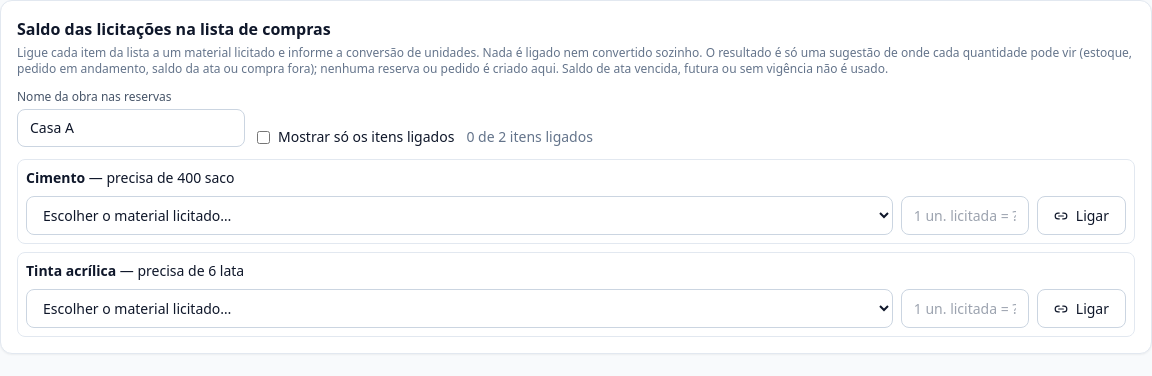
Test: saldo das licitações na lista de compras (tela) › a reserva considerada é a da obra informada
Step 1. Select "Cimento CP II 50 kg — 10/2026 (saco)" in the dropdown named "Material licitado para Cimento" → [459, 216], box [26,196,893,235]
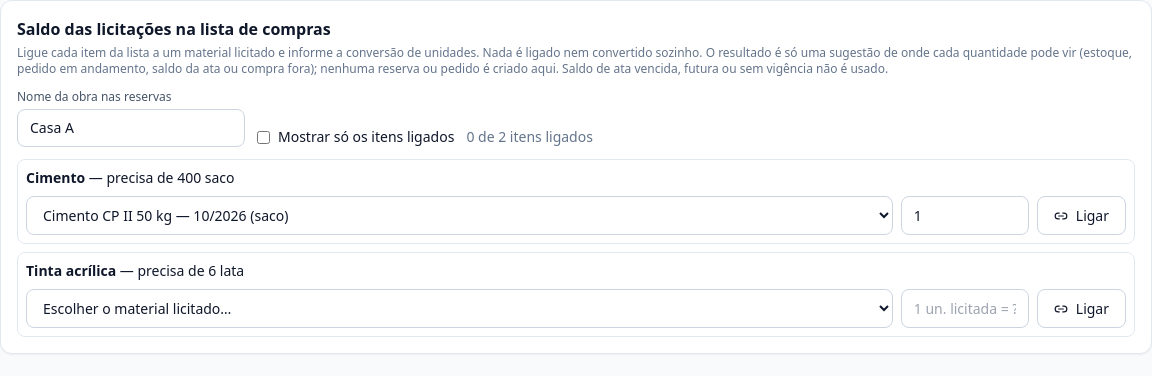
Step 2. Click the 1st button "Ligar" → [1081, 216], box [1037,196,1126,235]
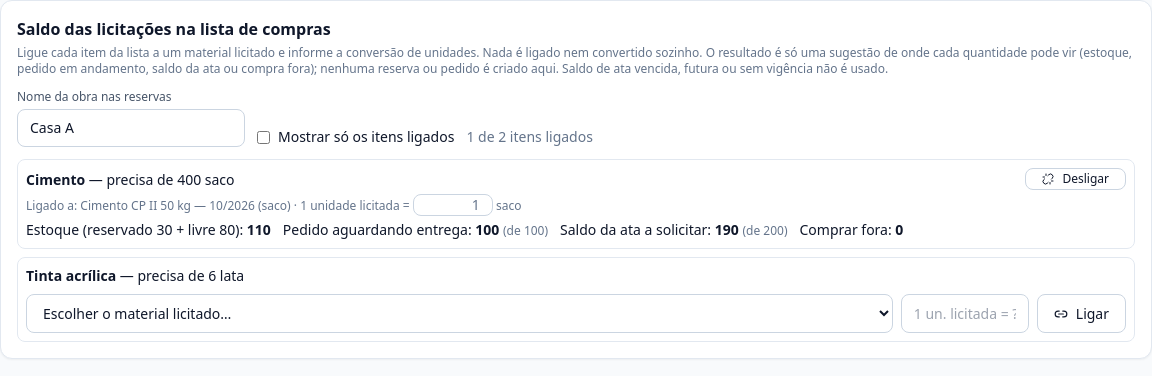
Check: the text "Estoque (reservado 30 + livre 80): 110" is shown, box [26,220,271,239]
Step 3. Replace the text in the field labelled "Nome da obra nas reservas" with "Casa B" → [131, 128], box [17,109,245,147]
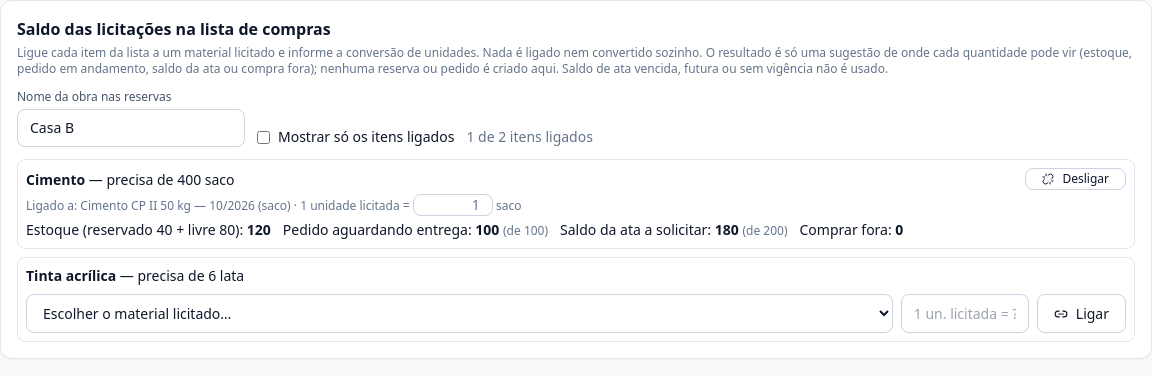
Check: the text "Estoque (reservado 40 + livre 80): 120" is shown, box [26,220,271,239]
